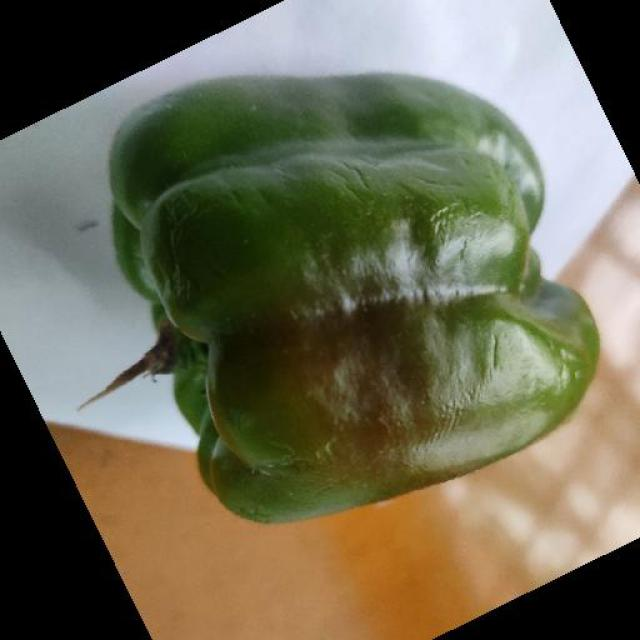Stale_Capsicum: (70, 130, 619, 502)
